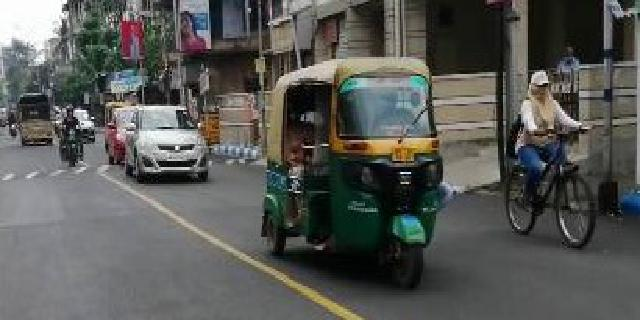Autorickshaw: (260, 55, 443, 291)
Car: (123, 103, 215, 187), (103, 107, 132, 167)
Cycle: (494, 65, 603, 253)
Minitruck: (13, 92, 55, 149)
Motorbike: (55, 105, 86, 172)
